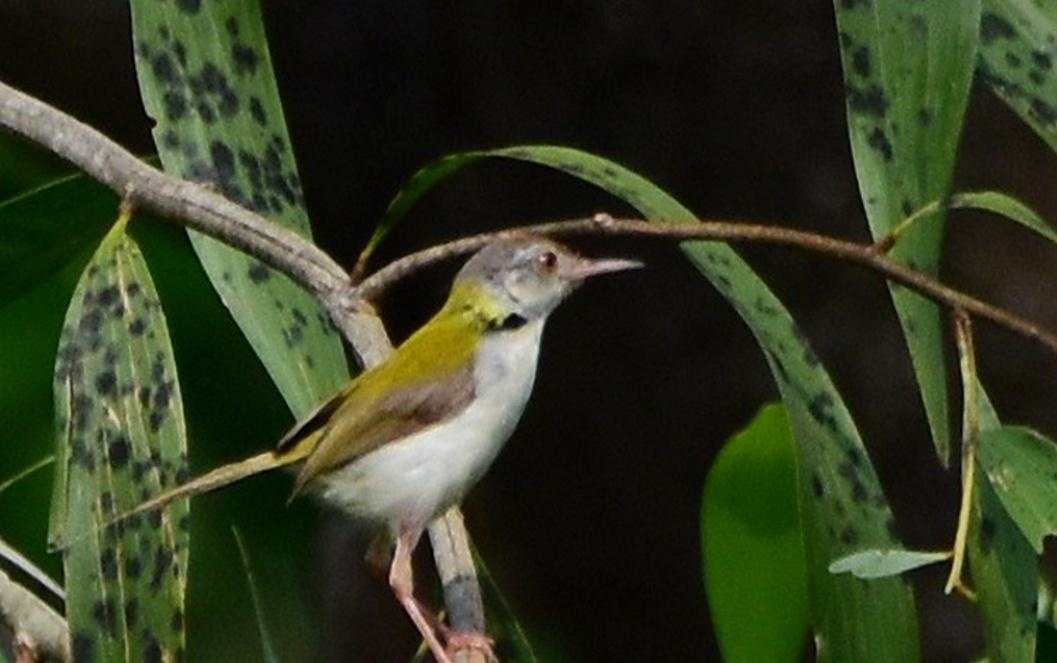tailorbird: (91, 223, 653, 640)
